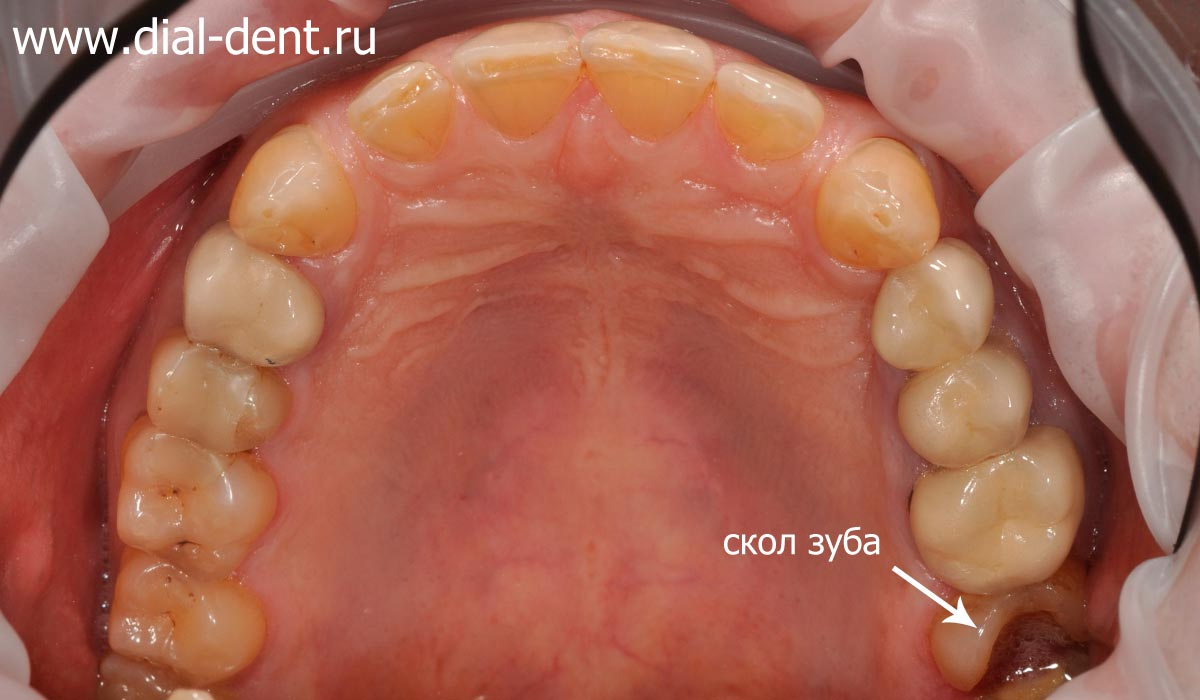UL1BC_healthy: (875, 240, 989, 366)
UL1M_healthy: (918, 443, 1076, 587)
UL2BC_healthy: (900, 347, 1029, 464)
UL2M_decay: (976, 595, 1085, 691)
ULCI_healthy: (588, 24, 711, 131)
ULC_healthy: (817, 140, 937, 266)
ULLI_healthy: (713, 63, 822, 159)
UR1BC_healthy: (183, 233, 321, 364)
UR1M_decay: (119, 438, 268, 567)
UR2BC_decay: (146, 338, 283, 454)
UR2M_decay: (109, 570, 264, 674)
URCI_healthy: (452, 22, 580, 128)
URC_healthy: (229, 129, 354, 258)
URLI_healthy: (350, 63, 450, 153)
